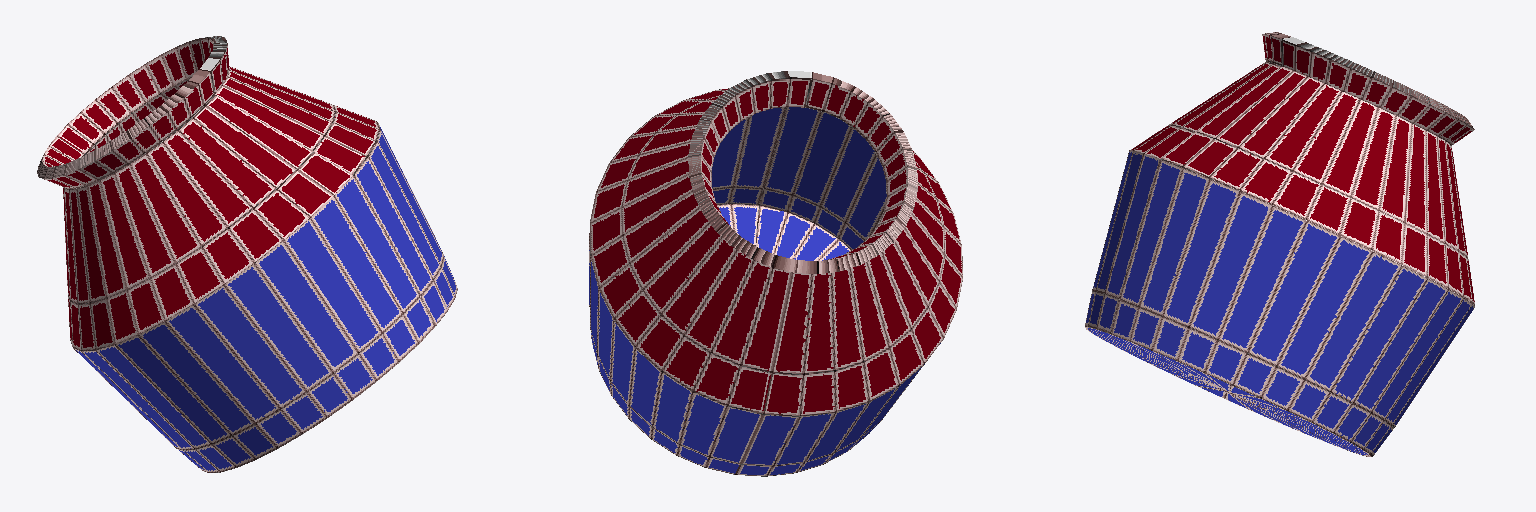
3 renders of one model, left to right at view 1: azimuth 30°, elevation 25°; view 2: azimuth 150°, elevation 25°; view 3: azimuth 270°, elevation 25°, orthographic.
Visible parts, largest first — view 1: Circle; view 2: Circle; view 3: Circle.
Boxes of the visible parts, <box> form: Circle: <box>37,36,457,472</box>; Circle: <box>589,71,962,476</box>; Circle: <box>1085,32,1474,456</box>.
Size of the model in its own units: 0.3015 by 0.3339 by 0.2988.
1 materials, 1 textured.